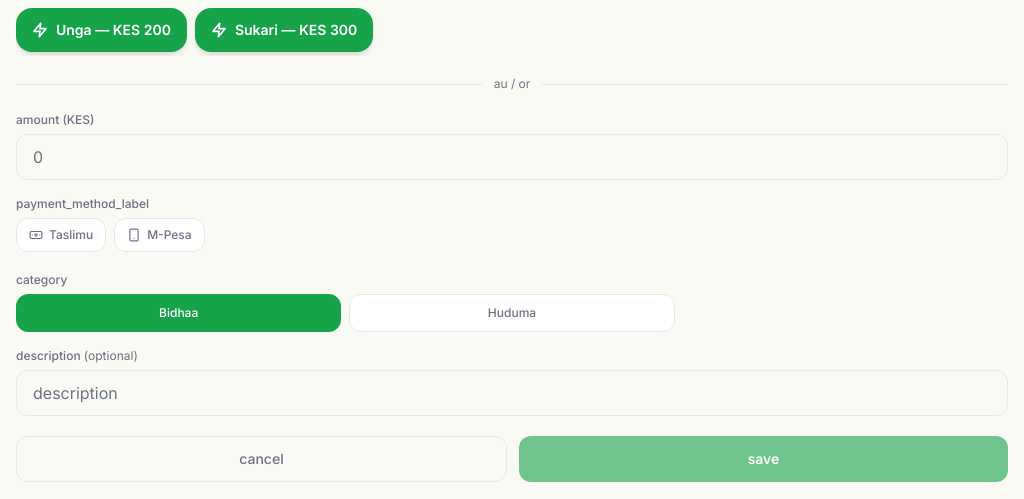
Test case: RecordSale › enables save button when amount is valid
Type "1500" into the number field with placeholder "0" at point(512, 157), box [16,134,1008,180]
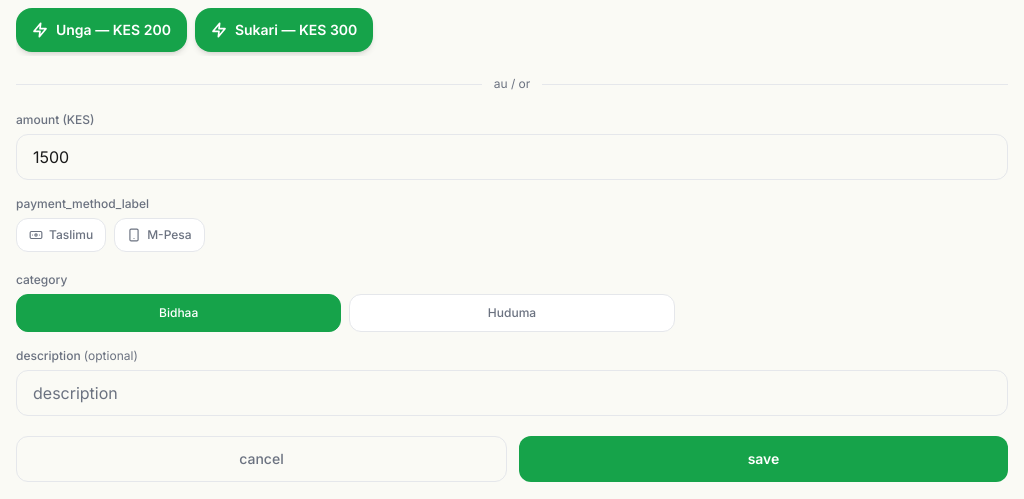
Expected: the button "save" is enabled, [519,436,1008,482]
